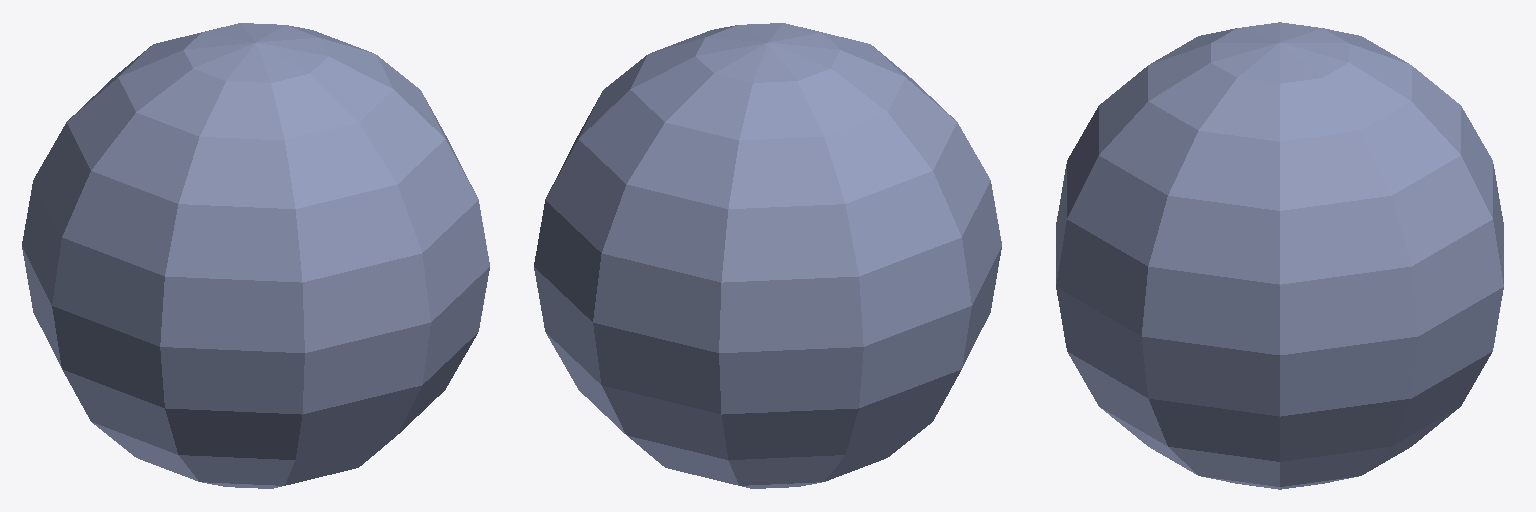
The picture shows the model from 3 angles: view 1: azimuth 30°, elevation 25°; view 2: azimuth 150°, elevation 25°; view 3: azimuth 270°, elevation 25°; orthographic projection.
Parts seen in each view (by area): view 1: pSphere1; view 2: pSphere1; view 3: pSphere1.
Boxes of the visible parts, box(x1,y1,x2,y2) form: pSphere1: box(22, 23, 489, 488); pSphere1: box(534, 23, 1001, 488); pSphere1: box(1056, 22, 1503, 489).
Size of the model in its own units: 1 by 1 by 0.9511.
Materials: 1 (1 with a texture image).